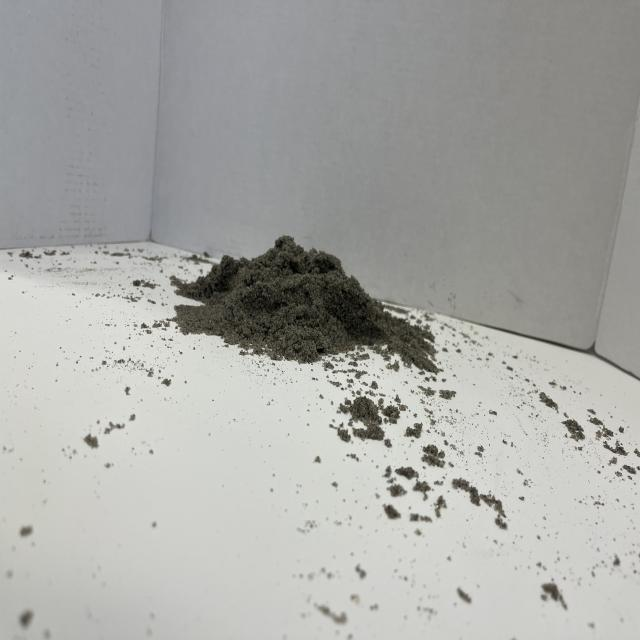sand: (162, 209, 442, 402)
